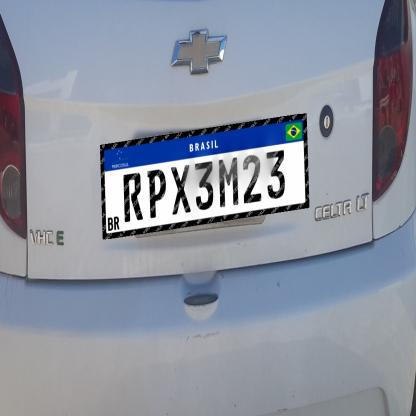PlacaM: (100, 113, 309, 240)
